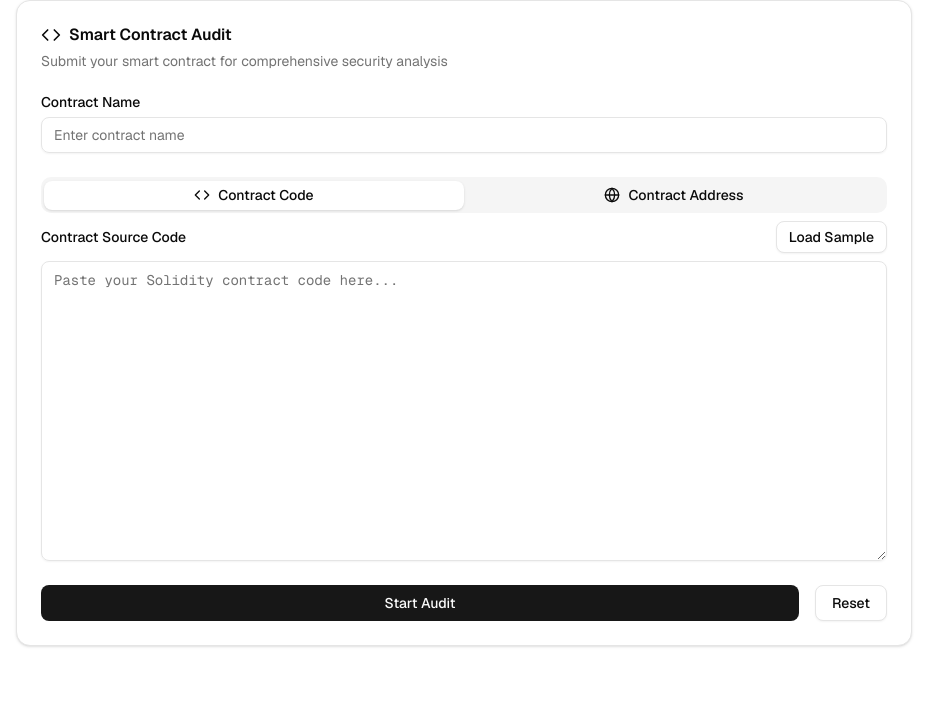
Test: AuditForm › should validate required fields
Click the button "Start Audit".
click(420, 603)  # box [41,585,799,621]
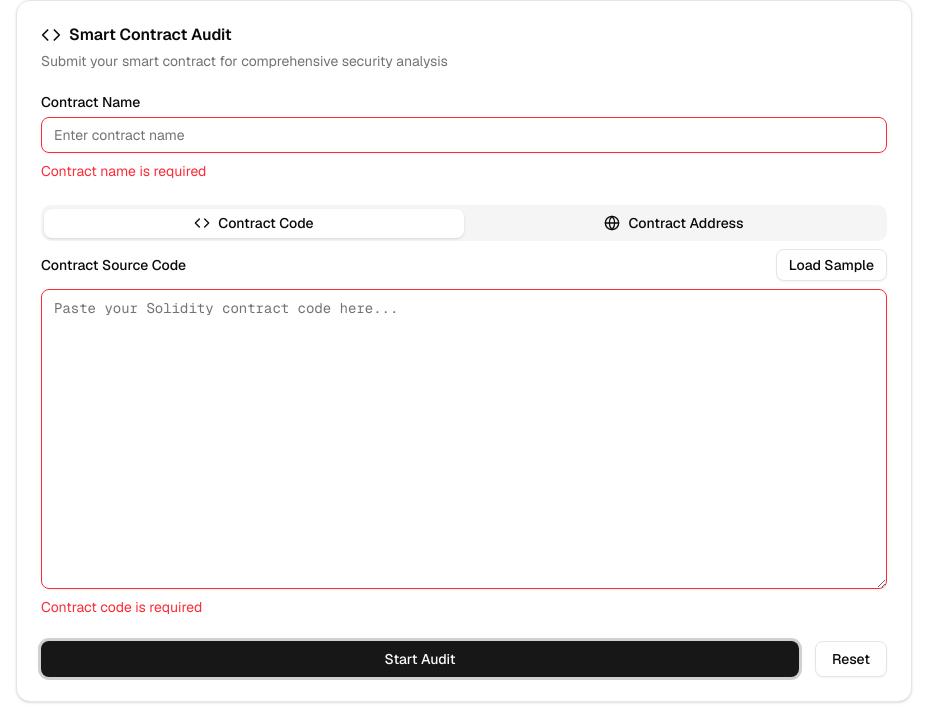
Expected: the text "Contract name is required" is shown, [41,162,206,180]
